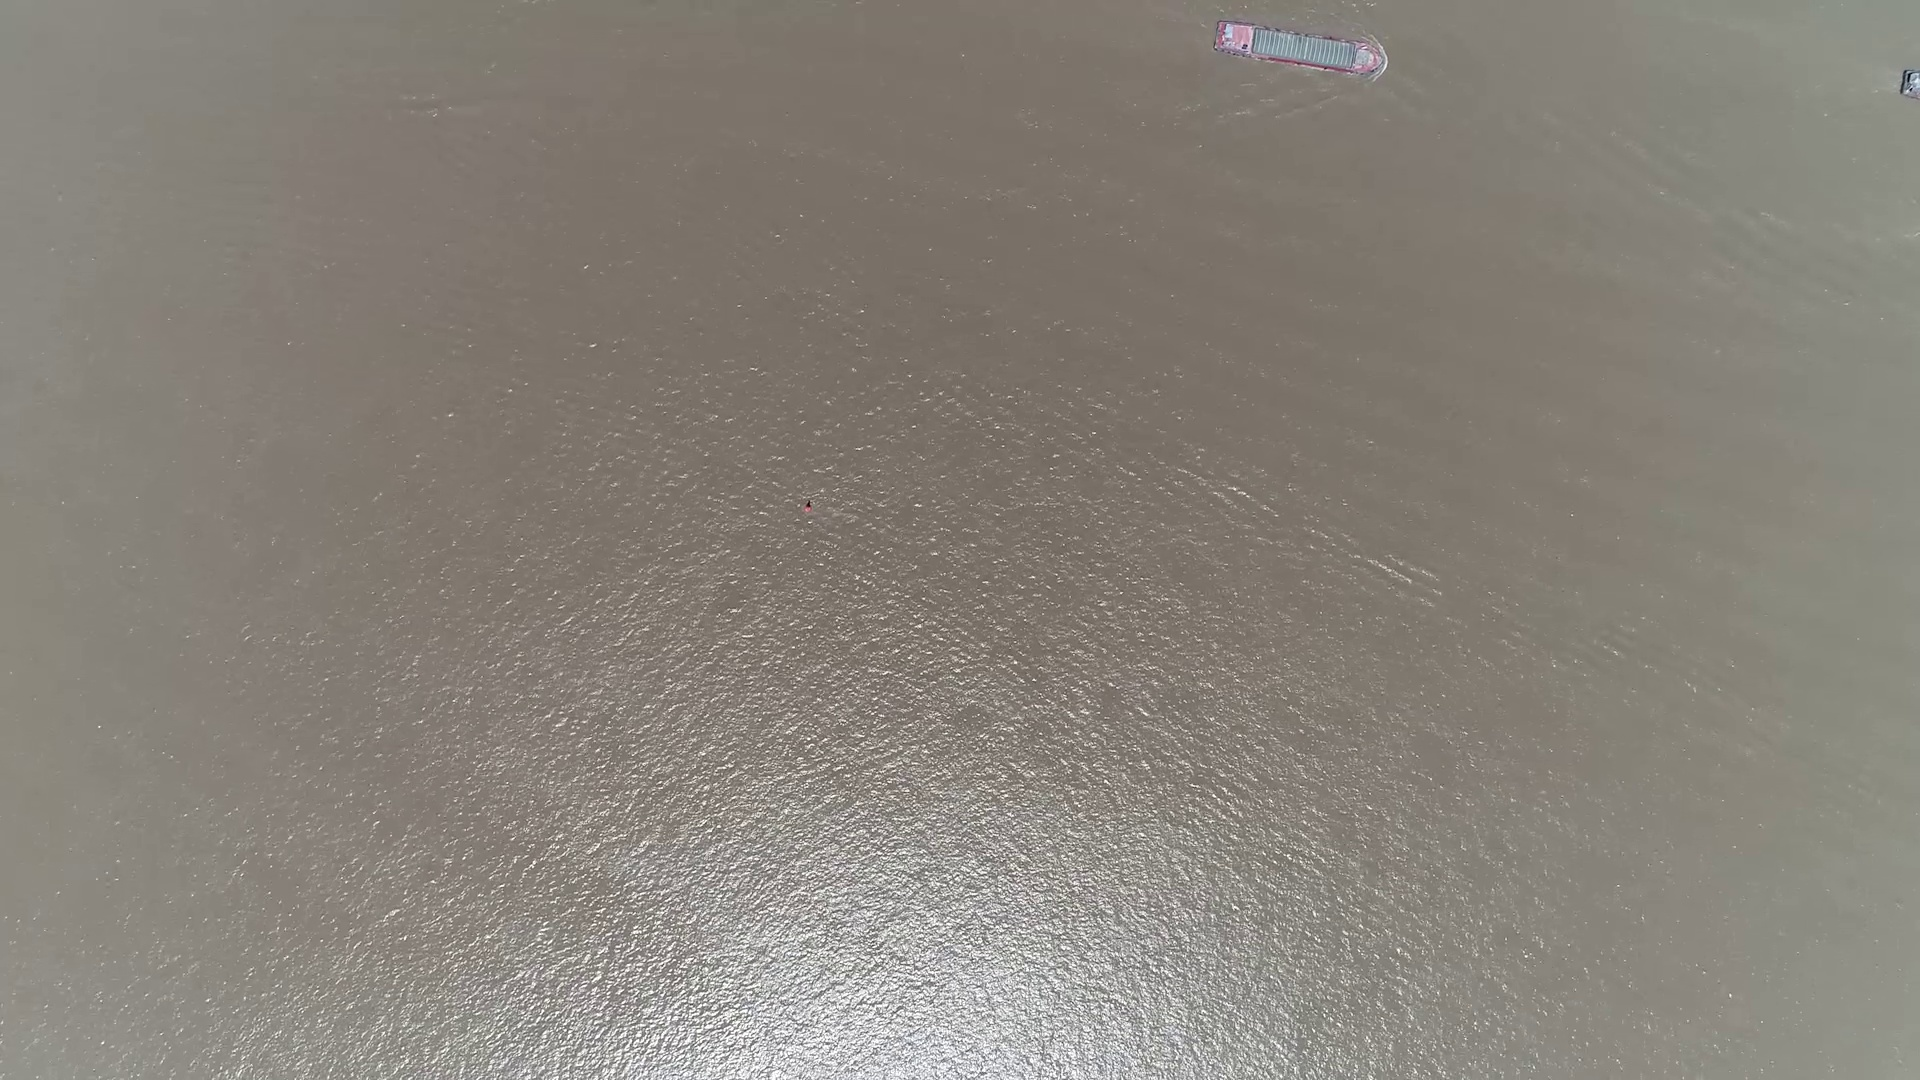ship: (1211, 21, 1385, 78)
